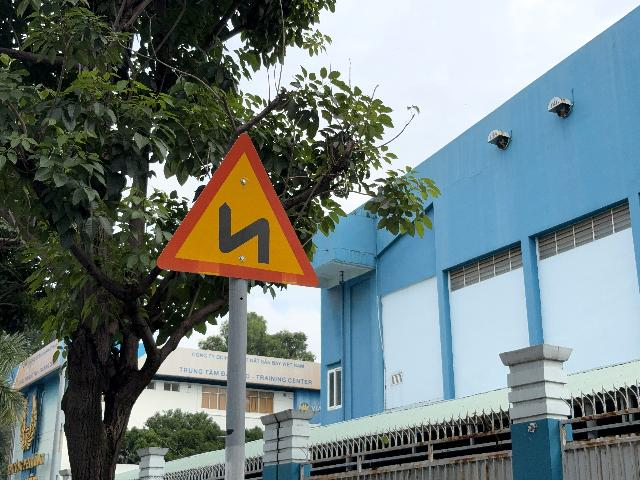nhieu-cho-ngoat-nguy-hiem-lien-tiep: (156, 133, 319, 287)
